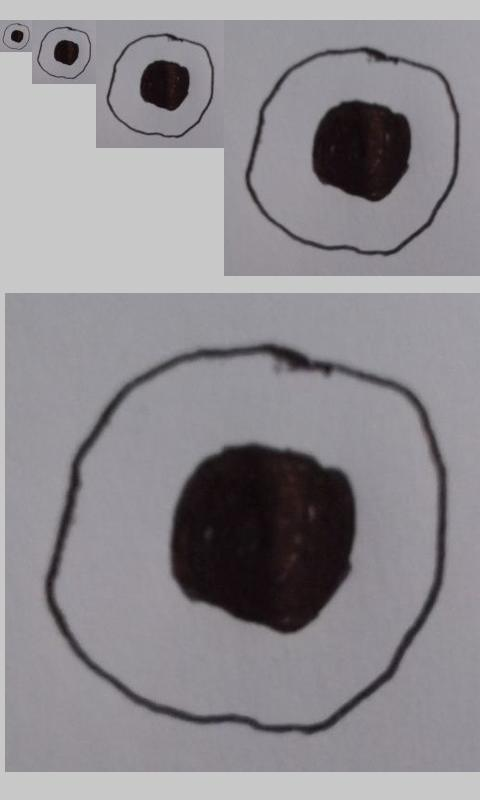radio_button: (42, 341, 449, 736), (244, 45, 460, 256), (105, 32, 215, 139), (36, 26, 93, 80), (1, 22, 31, 51)
